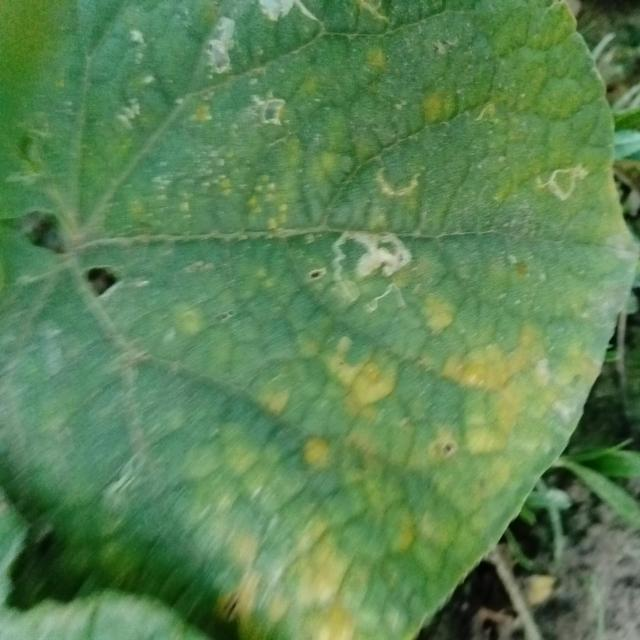cucumber_downy: (0, 9, 610, 613)
